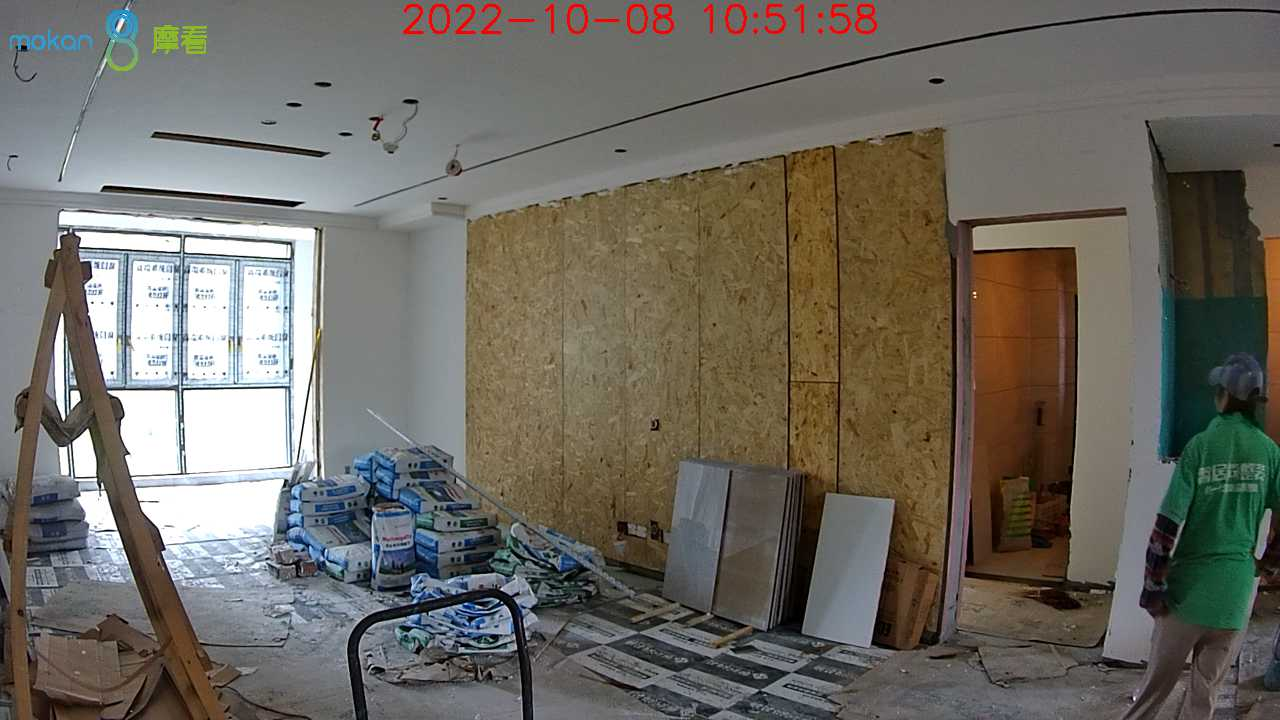people: (1142, 353, 1280, 716)
window: (65, 221, 306, 472)
